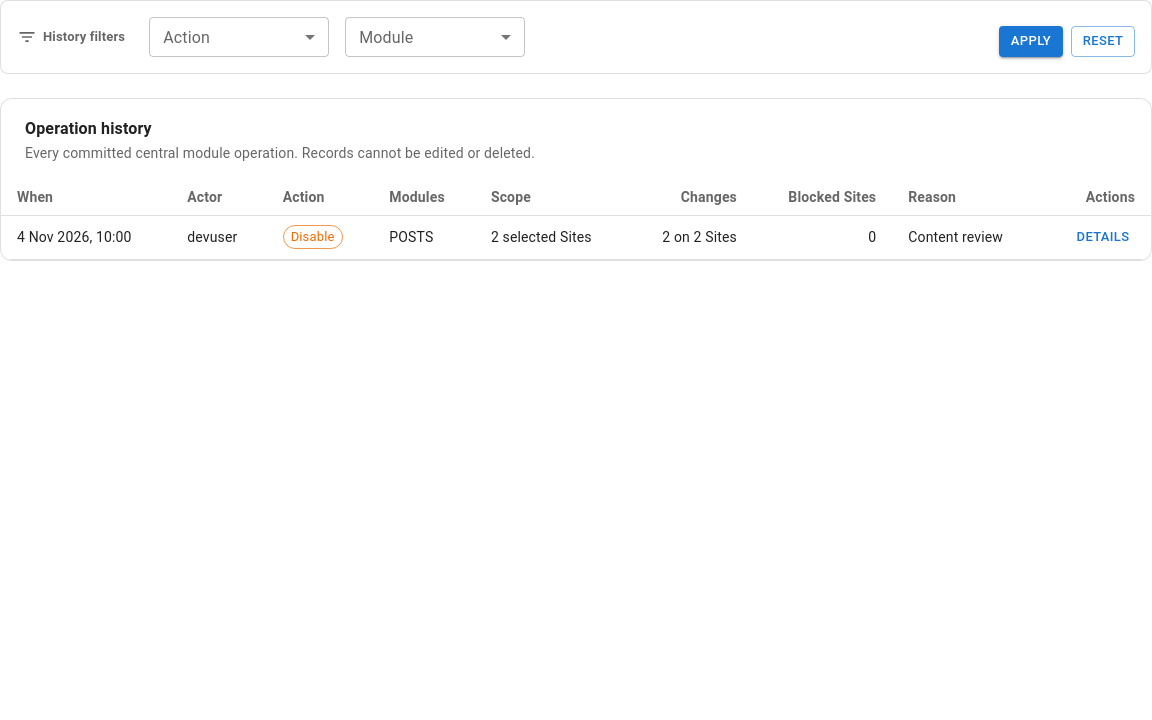
Test: OperationHistory › lists operations and shows every change with its audit fields
Check: the text "Content review" shows "devuser", box [187, 229, 237, 245]
Check: the text "Content review" shows "Disable", box [291, 229, 334, 244]
What coordinates should you click on to do the following:
click the button with aria-label "Details for operation"
I would click on:
 (1103, 237)
Its box is [1071, 222, 1135, 253].
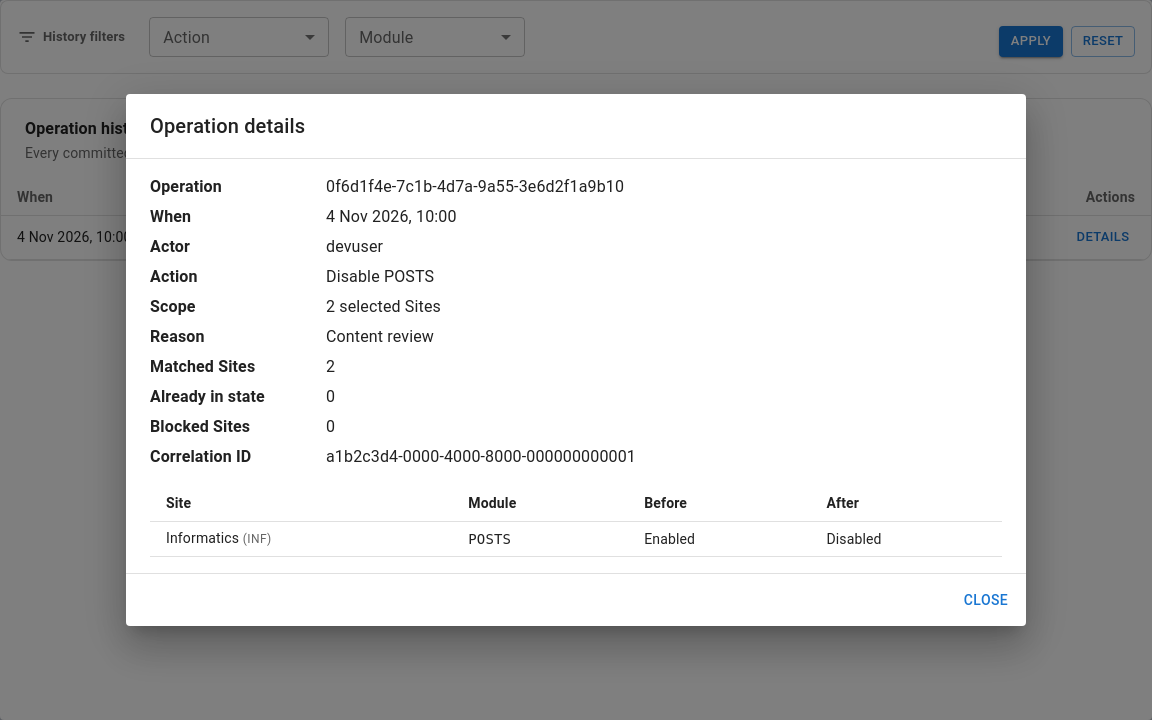
Check: the dialog shows "Informatics", box [166, 530, 239, 546]
Check: the dialog shows "Enabled", box [644, 531, 695, 547]
Check: the dialog shows "Disabled", box [826, 531, 882, 547]
